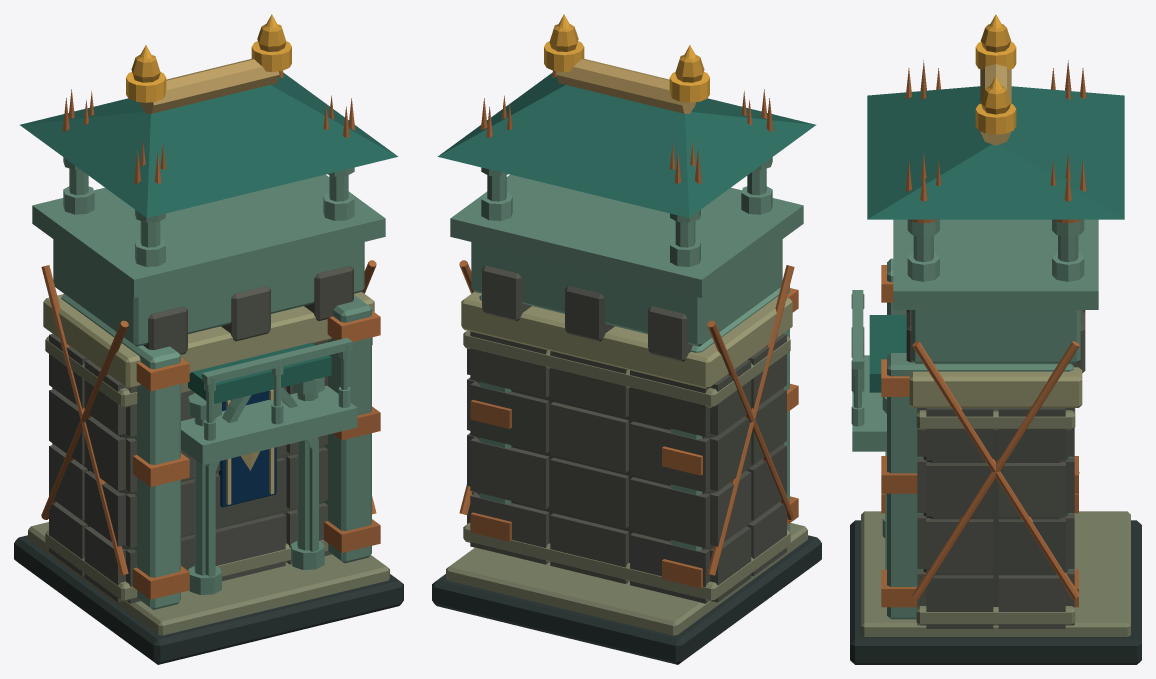
3 views of the same model, side by side, from view 1: azimuth 30°, elevation 25°; view 2: azimuth 150°, elevation 25°; view 3: azimuth 270°, elevation 25° (orthographic).
Parts seen in each view (by area): view 1: wall_L8_0, wall_L8_1; view 2: wall_L8_0, wall_L8_1; view 3: wall_L8_0, wall_L8_1.
Boxes of the visible parts, x1=… form: wall_L8_0: x1=14, y1=24, x2=403, y2=664; wall_L8_1: x1=41, y1=14, x2=380, y2=599; wall_L8_0: x1=432, y1=24, x2=821, y2=664; wall_L8_1: x1=459, y1=14, x2=798, y2=588; wall_L8_0: x1=850, y1=24, x2=1141, y2=664; wall_L8_1: x1=881, y1=14, x2=1086, y2=607.
Size of the model in its own units: 1.9 by 3.94 by 1.86.
